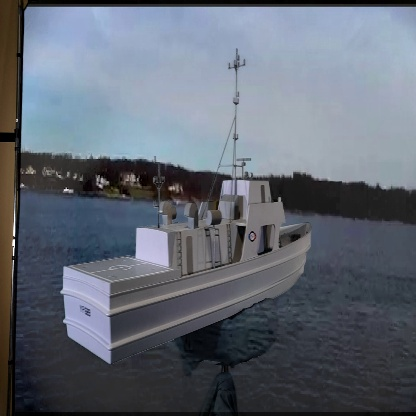YP689: (61, 53, 313, 367)
